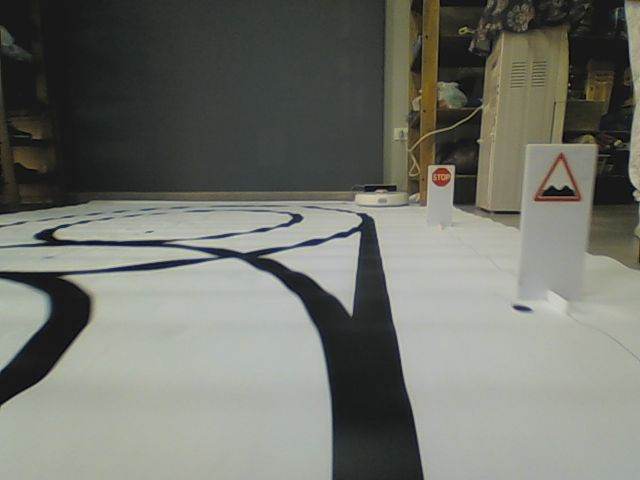Stop: (432, 167, 452, 187)
